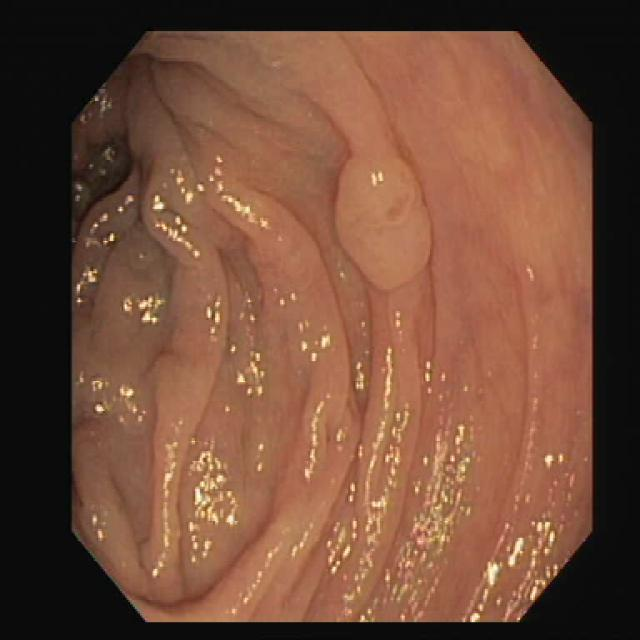tumor: (337, 142, 430, 291)
